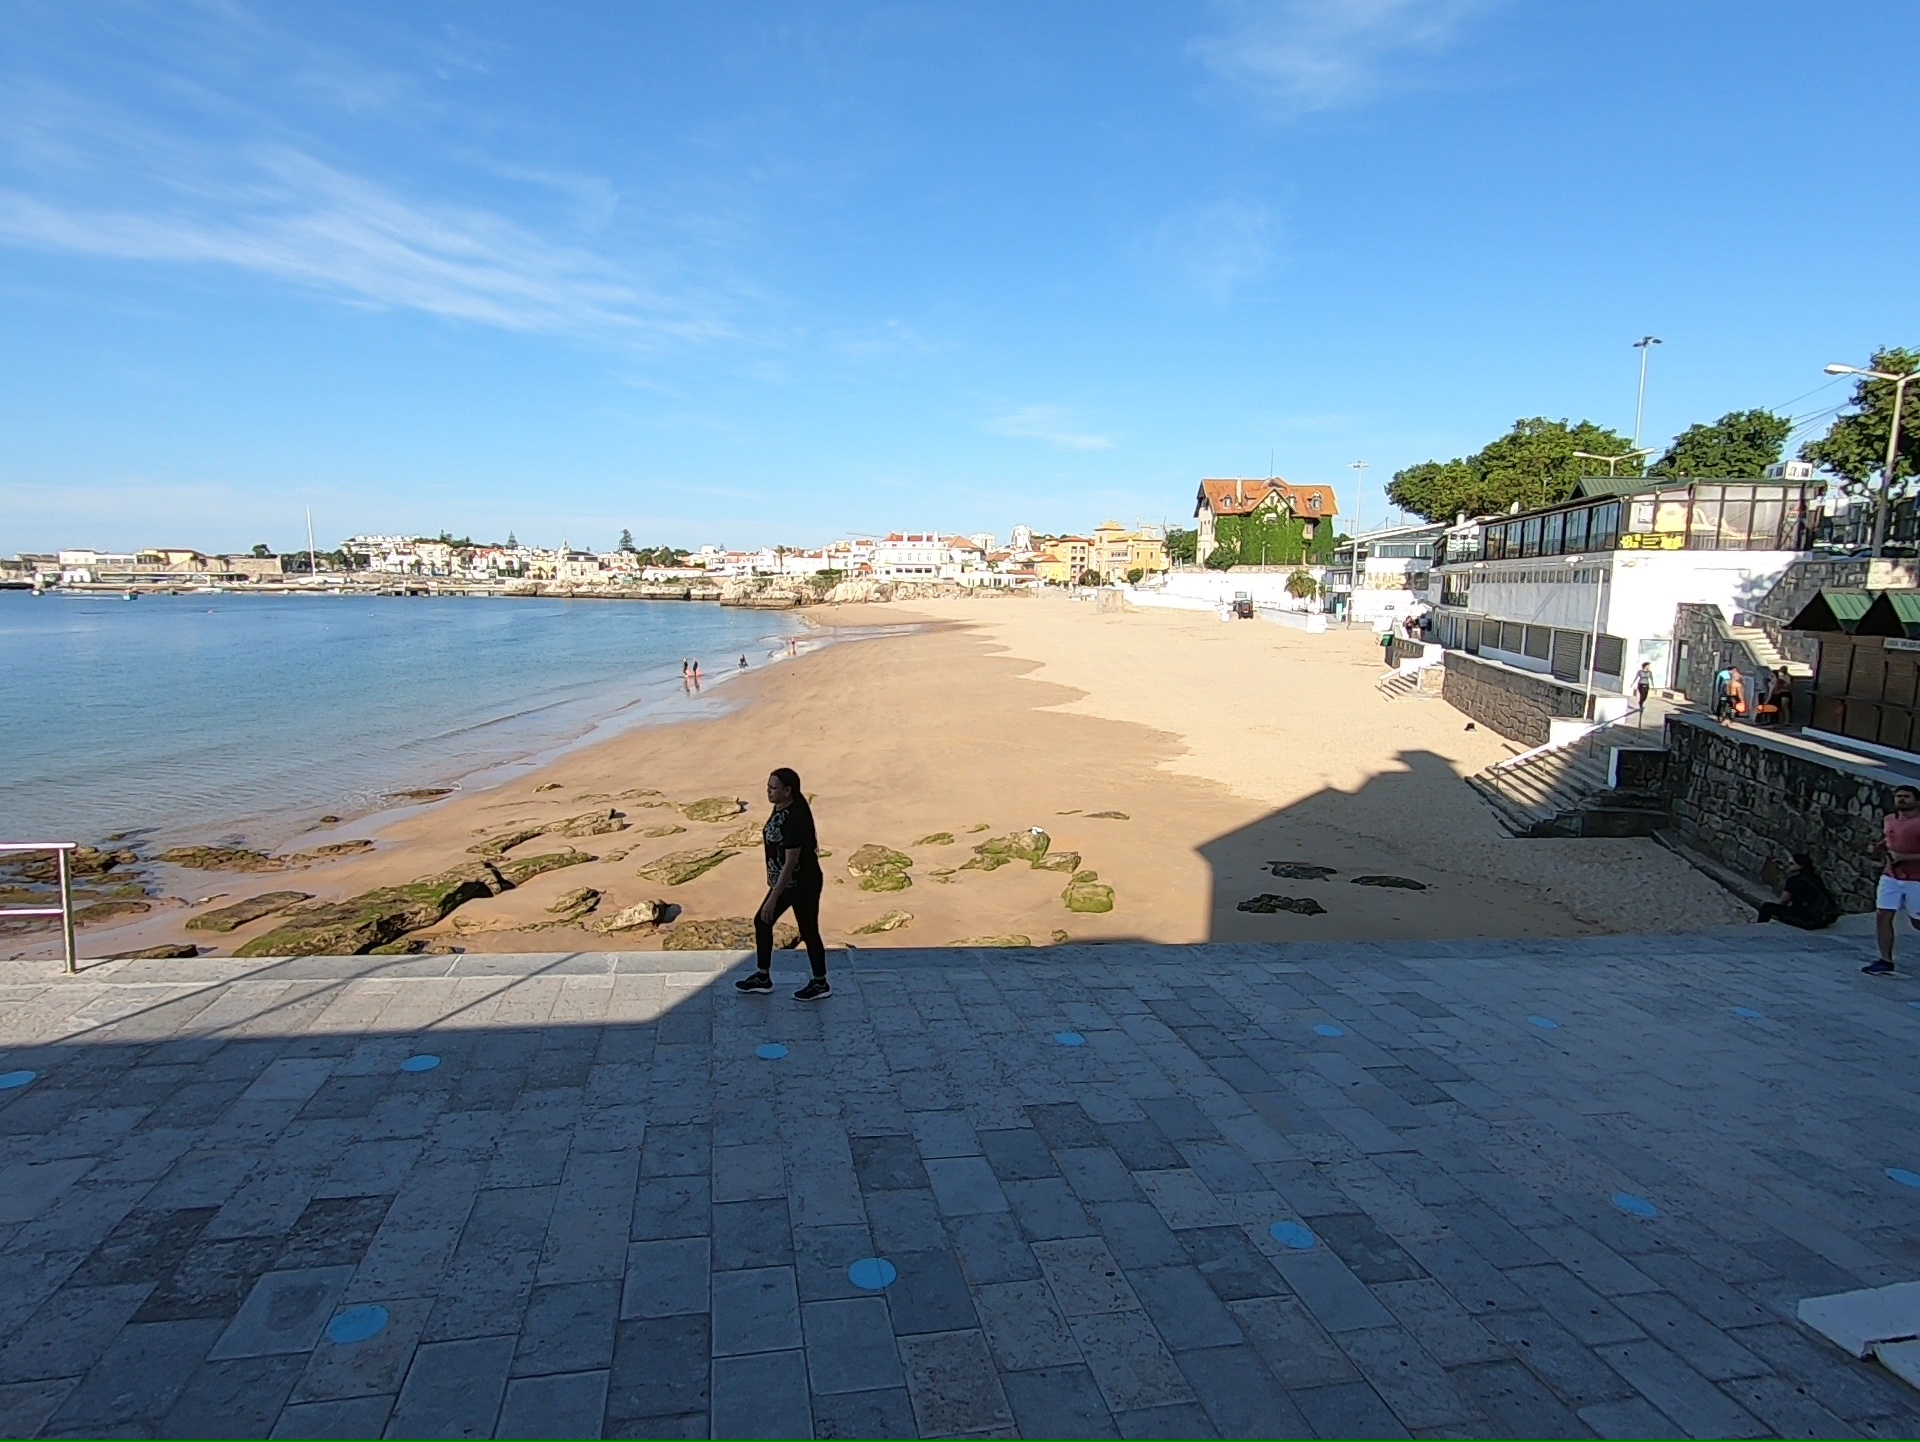person: (740, 760, 831, 1003), (1869, 775, 1920, 977), (1758, 849, 1842, 930), (1720, 671, 1743, 723), (1632, 660, 1653, 714), (1764, 669, 1781, 725), (736, 653, 748, 673), (690, 659, 700, 676), (790, 638, 795, 653)
